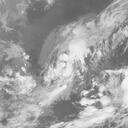cyclone: (44, 34, 85, 94)
